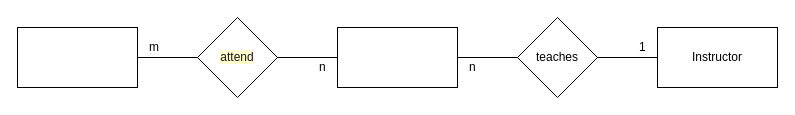
Image size: 795x115. Some labels were removed from this diagram. Each missing label, with the box of its shape:
Course: (336, 26, 458, 88)
Student: (16, 26, 138, 88)
